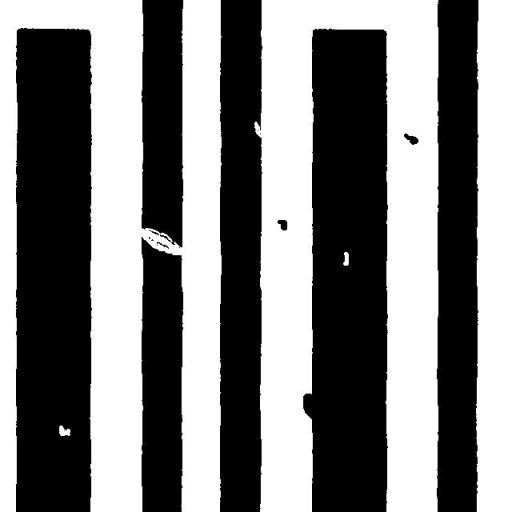copper: (396, 126, 426, 152), (270, 212, 294, 238)
mousebite: (246, 114, 270, 144)
open: (126, 220, 194, 262)
pin-hole: (51, 418, 78, 443), (335, 244, 356, 273)
spur: (295, 386, 330, 428)
